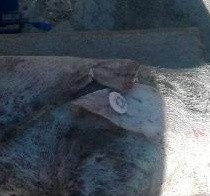text: (94, 82, 140, 125)
